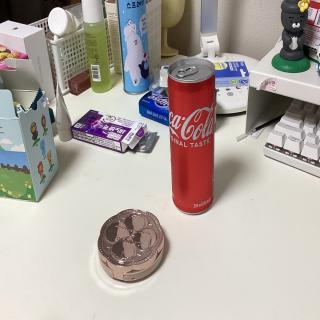cocacola: (163, 58, 219, 221)
